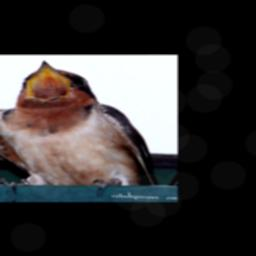Swallow: (0, 58, 170, 198)
